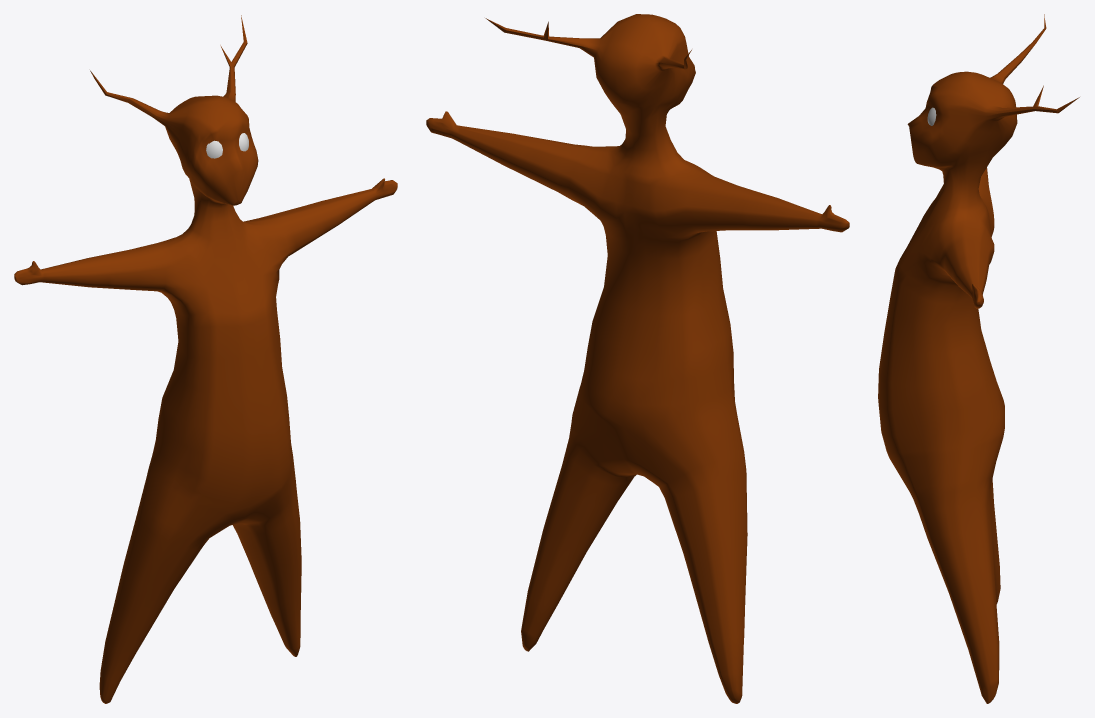
The model's file is Character_Animation_Gå_test.fbx.
The picture shows the model from 3 angles, left to right: view 1: azimuth 30°, elevation 25°; view 2: azimuth 150°, elevation 25°; view 3: azimuth 270°, elevation 25°; orthographic projection. The views are drawn at different scales.
Parts seen in each view (by area): view 1: horns_mod; view 2: horns_mod; view 3: horns_mod.
Boxes of the visible parts, x1,y1,x2,y2 form: horns_mod: (14, 15, 397, 703); horns_mod: (426, 14, 849, 703); horns_mod: (878, 14, 1079, 703).
Bounding box in the file's own units: 5.84 × 8.92 × 2.71.
